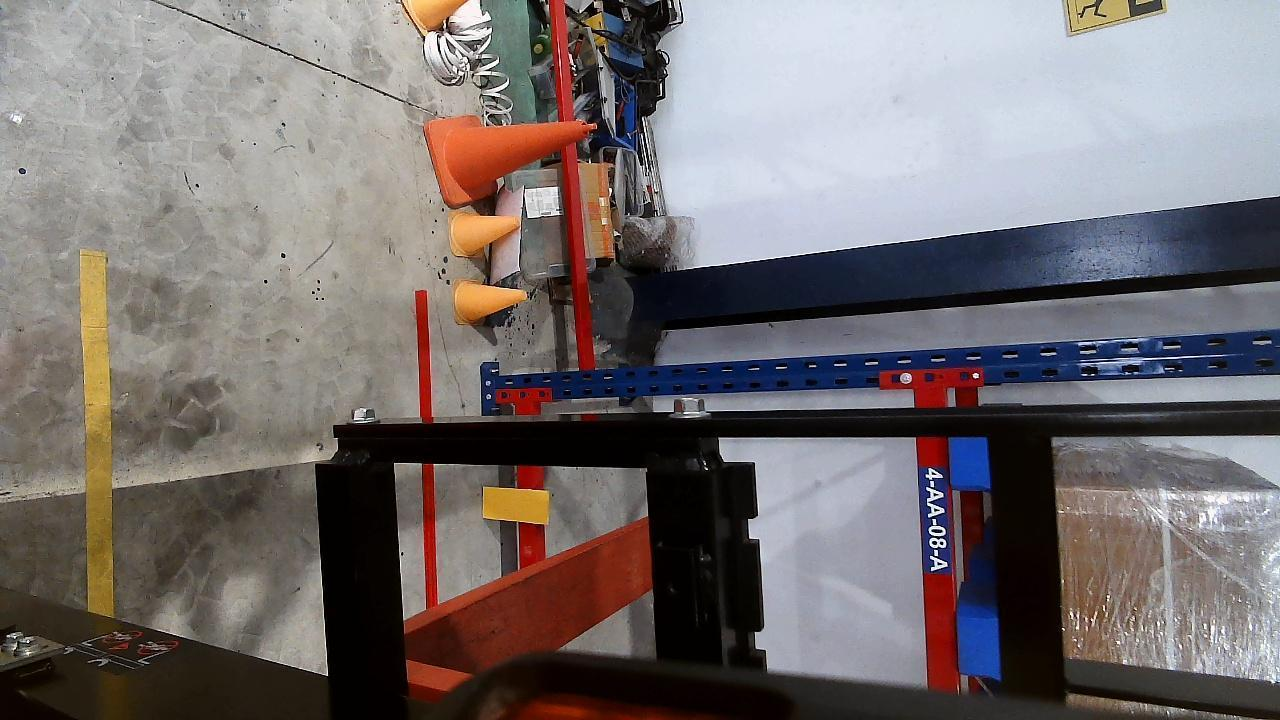red_line: (409, 289, 437, 609)
yellow_line: (80, 249, 113, 616)
